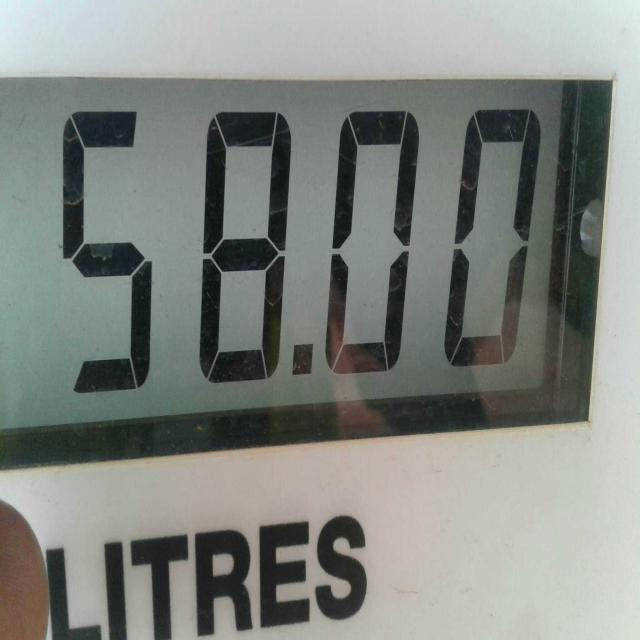.: (285, 316, 321, 402)
0: (320, 95, 433, 388), (441, 92, 548, 374)
5: (40, 92, 165, 414)
8: (175, 104, 297, 398)
